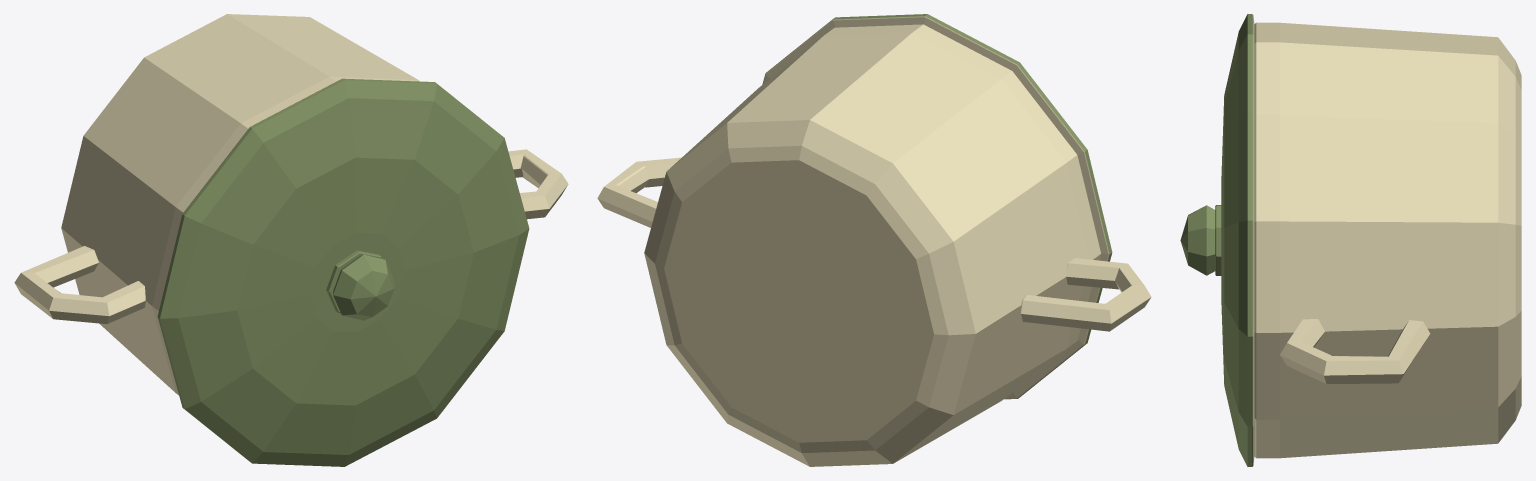
The model's file is saucepan.glb.
3 views of the same model, side by side, from view 1: azimuth 30°, elevation 25°; view 2: azimuth 150°, elevation 25°; view 3: azimuth 270°, elevation 25° (orthographic). The views are drawn at different scales.
Visible parts, largest first — view 1: saucepan; view 2: saucepan; view 3: saucepan.
Boxes of the visible parts, x1,y1,x2,y2 form: saucepan: (14, 14, 568, 466); saucepan: (597, 14, 1151, 466); saucepan: (1180, 14, 1521, 466).
Bounding box in the file's own units: 0.2193 × 0.156 × 0.117.
